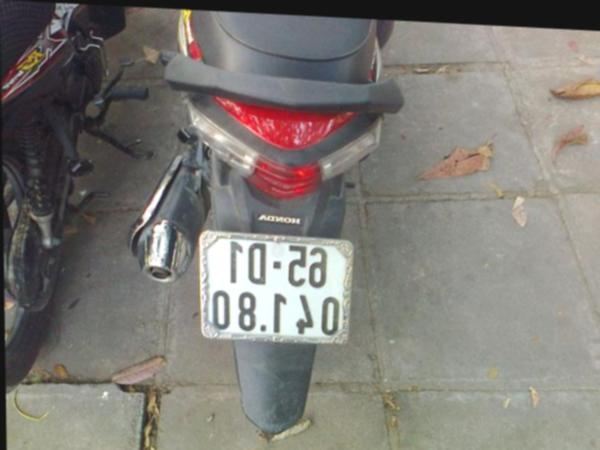License_Plate: (203, 235, 348, 345)
